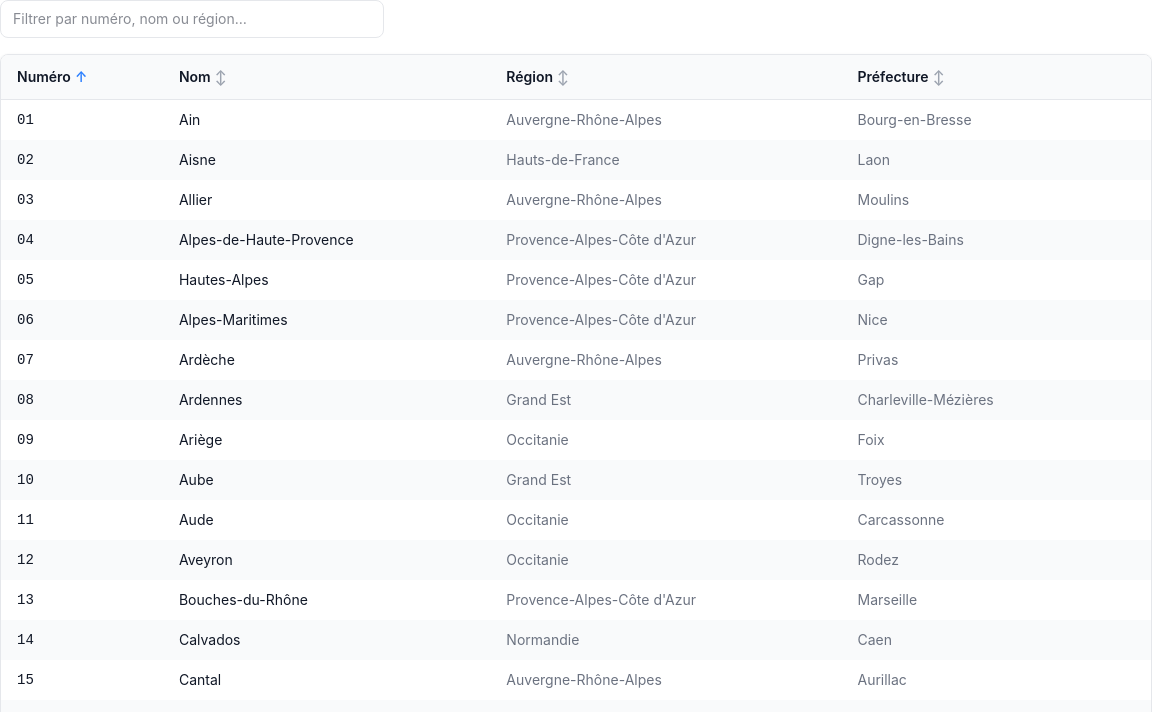
Test: TableauFlat – filtre par nom › affiche "Aucun département" si aucun résultat
In the field with placeholder "Filtrer par numéro, nom ou région…": coordinates (192, 19) [0,0,384,38], type "xxxxxxxxxxx"
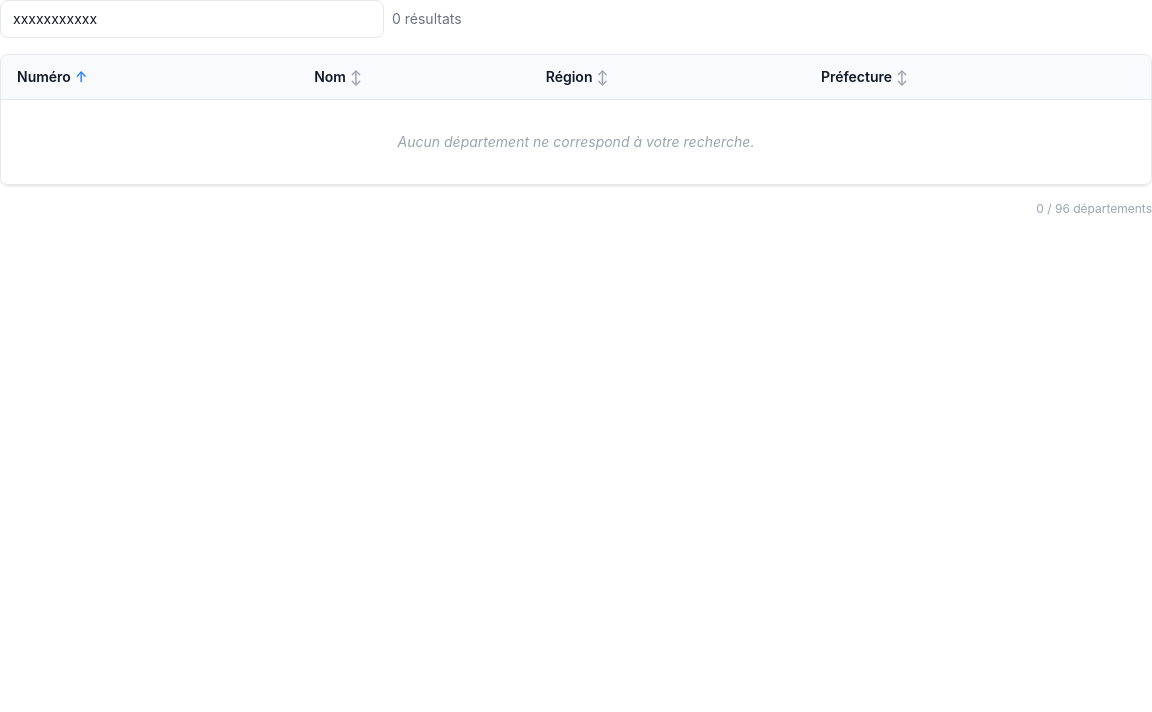
Expected: the text "Aucun département ne correspond à votre recherche." is shown, [1,100,1151,184]
